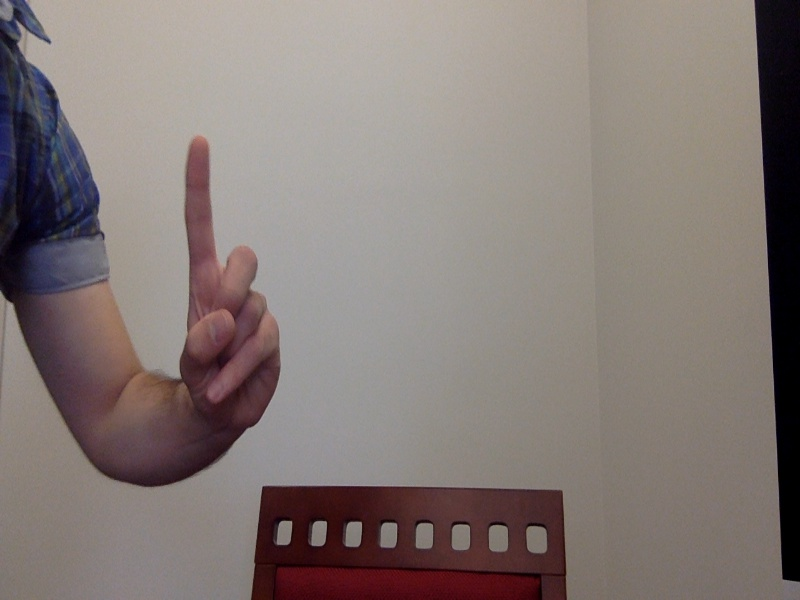1-hand: (179, 132, 284, 440)
